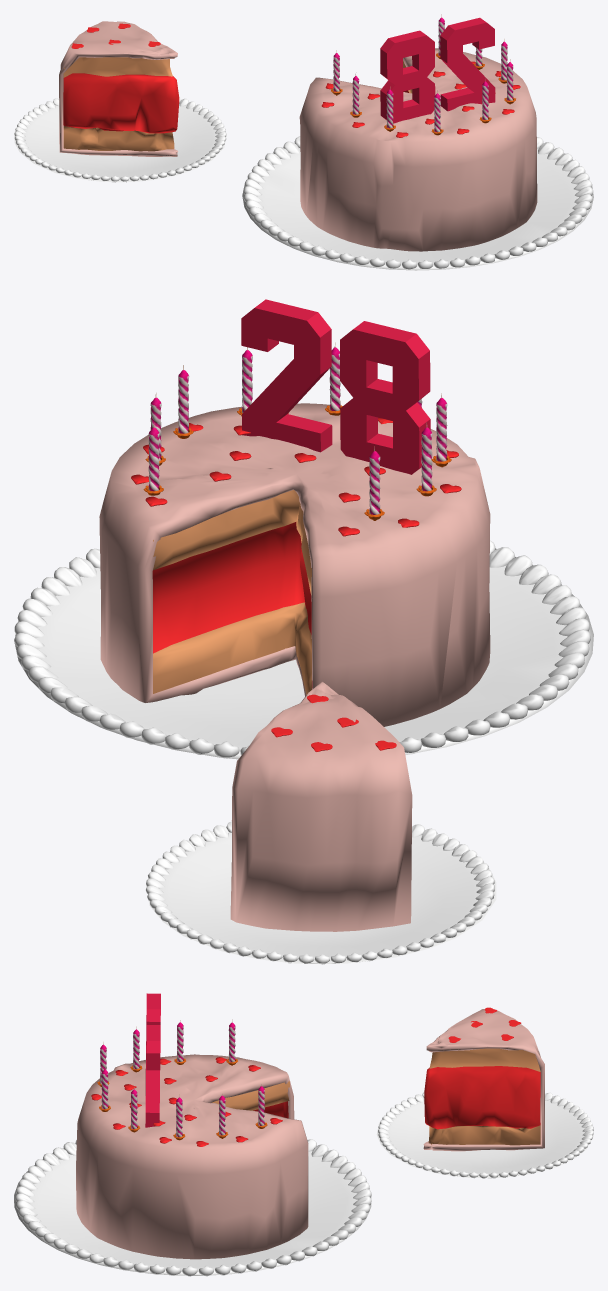
File: heart-cake-2.glb
3 views of the same model, one above another, from view 1: azimuth 30°, elevation 25°; view 2: azimuth 150°, elevation 25°; view 3: azimuth 270°, elevation 25° (orthographic). The views are drawn at different scales.
Visible parts, largest first — view 1: cake2, cake1, 8, 2; view 2: cake2, cake1, 8, 2; view 3: cake2, cake1, 2, 8.
Boxes of the visible parts, box(x1,y1,x2,y2) form: cake2: box(242, 48, 593, 270); cake1: box(14, 21, 226, 182); 8: box(380, 30, 435, 123); 2: box(440, 17, 495, 111); cake2: box(14, 403, 593, 759); cake1: box(146, 681, 496, 964); 8: box(340, 321, 430, 474); 2: box(241, 299, 332, 452); cake2: box(14, 1054, 371, 1276); cake1: box(376, 1007, 593, 1178); 2: box(145, 1025, 160, 1127); 8: box(145, 993, 160, 1085).
Size of the model in its own units: 2.6 by 1.26 by 3.21.
7 materials, 1 textured.
